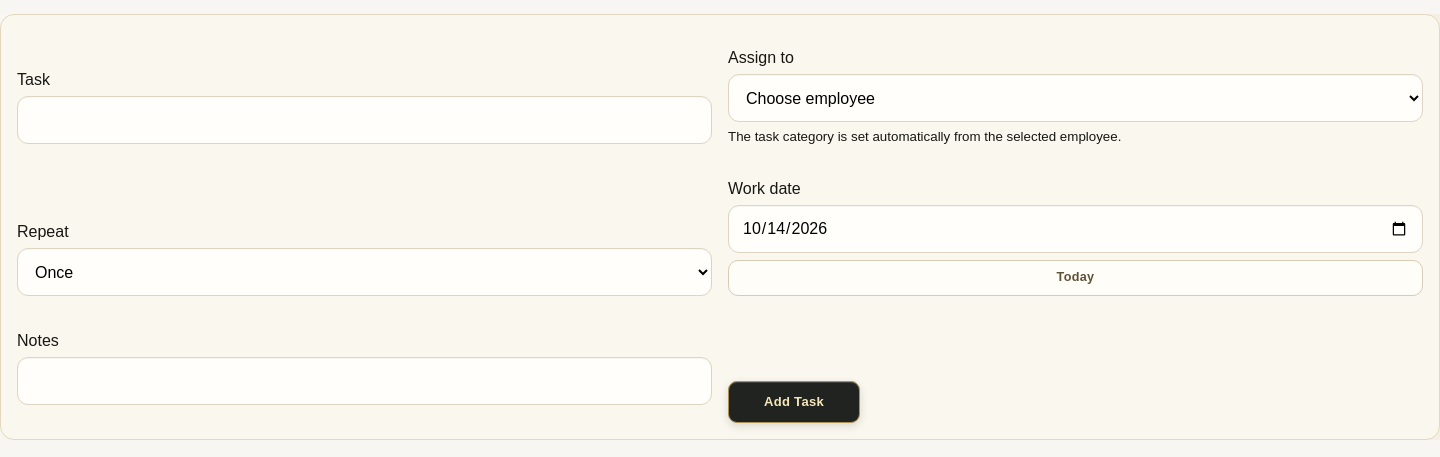
Test case: shows the inferred department when choosing an employee with no stored category
Select "NANCY" in the dropdown labelled "Assign to": point(1076, 98) [728,74,1423,122]
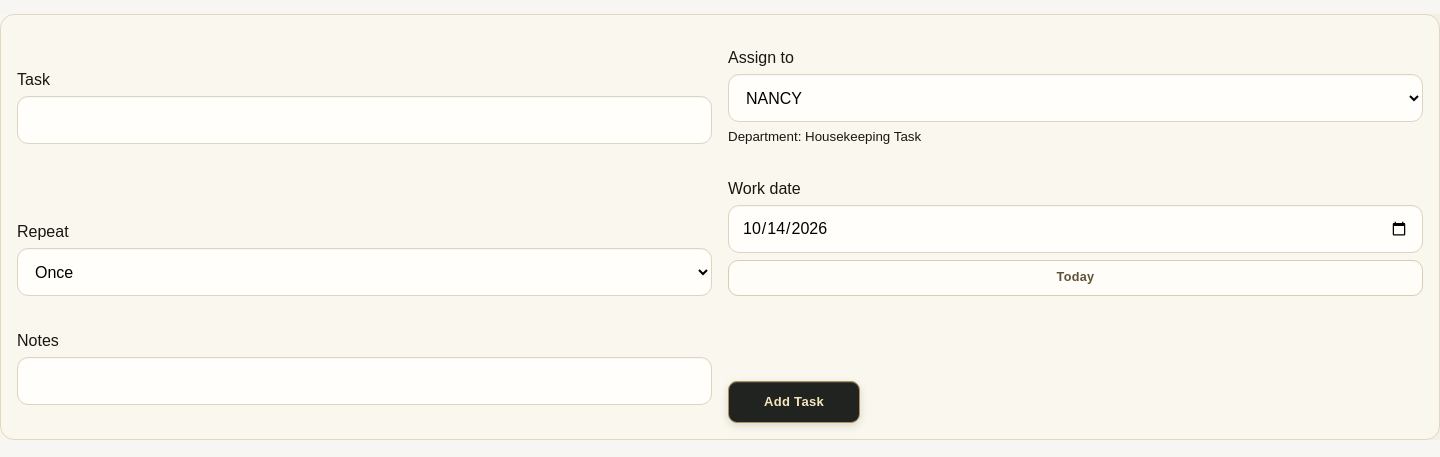
Result: the text "Department: Housekeeping Task" is shown at [728,129,921,144]
